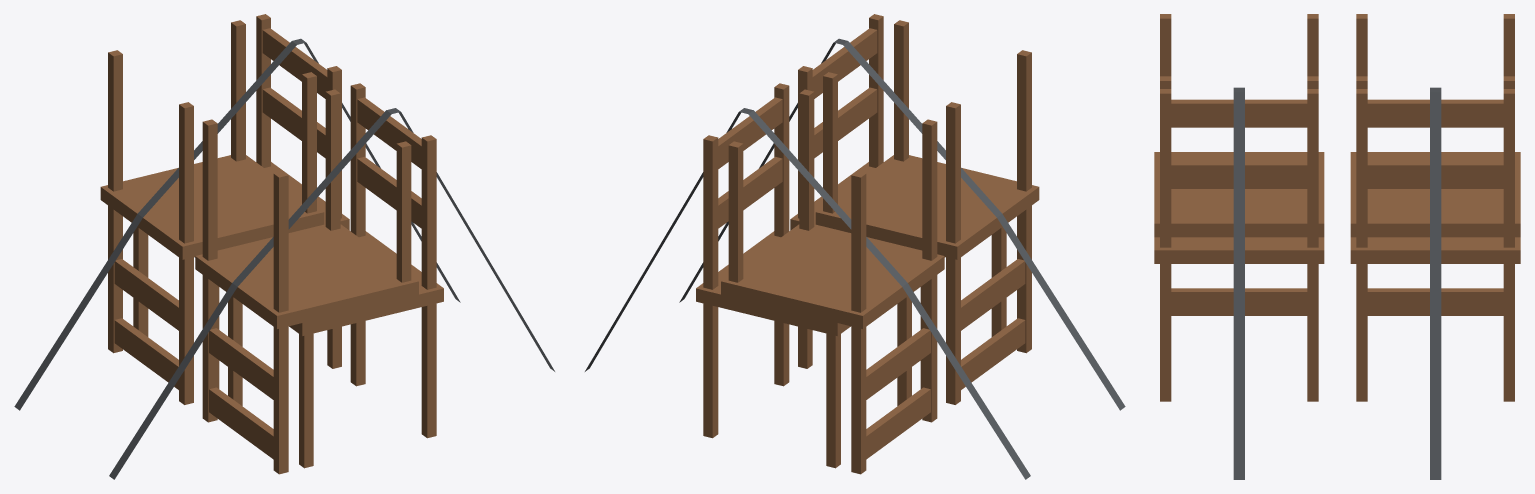
Rendered from dining-chairs.glb.
3 views of the same model, side by side, from view 1: azimuth 30°, elevation 25°; view 2: azimuth 150°, elevation 25°; view 3: azimuth 270°, elevation 25° (orthographic). The views are drawn at different scales.
Parts seen in each view (by area): view 1: DiningChairs; view 2: DiningChairs; view 3: DiningChairs.
Part boxes in pixels (x1,y1,x2,y2): DiningChairs: [14, 14, 554, 479]; DiningChairs: [585, 14, 1125, 479]; DiningChairs: [1154, 14, 1520, 479].
Size of the model in its own units: 1.4 by 0.904 by 0.97.
